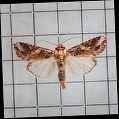Spodoptera litura: (14, 36, 108, 90)
